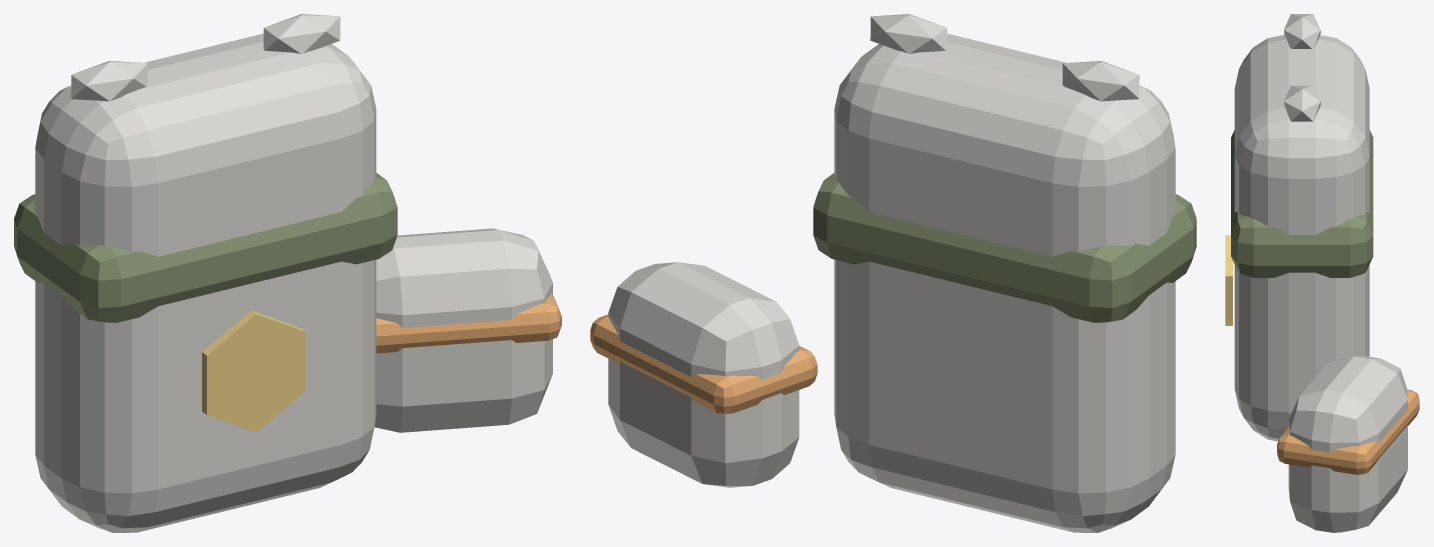
File: fertilizante.glb
The picture shows the model from 3 angles, left to right: view 1: azimuth 30°, elevation 25°; view 2: azimuth 150°, elevation 25°; view 3: azimuth 270°, elevation 25°; orthographic projection. The views are drawn at different scales.
Parts seen in each view (by area): view 1: agro_fertilizante_00; view 2: agro_fertilizante_00; view 3: agro_fertilizante_00.
Part boxes in pixels (x1,y1,x2,y2): agro_fertilizante_00: [14, 14, 561, 532]; agro_fertilizante_00: [590, 14, 1196, 532]; agro_fertilizante_00: [1225, 14, 1419, 532].
Size of the model in its own units: 1.22 by 1.03 by 0.5054.
